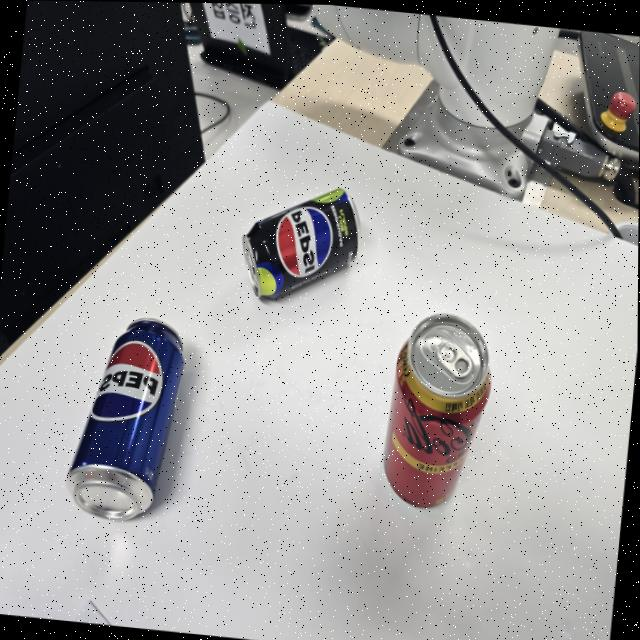can_coke_decaf: (381, 311, 490, 509)
can_pepsi: (64, 315, 185, 516)
can_pepsi_zero: (239, 186, 360, 304)
